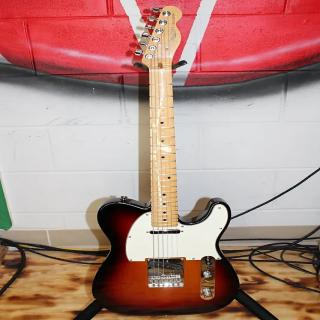Fender Telecaster: (89, 4, 241, 320)
SS: (146, 224, 192, 278)
